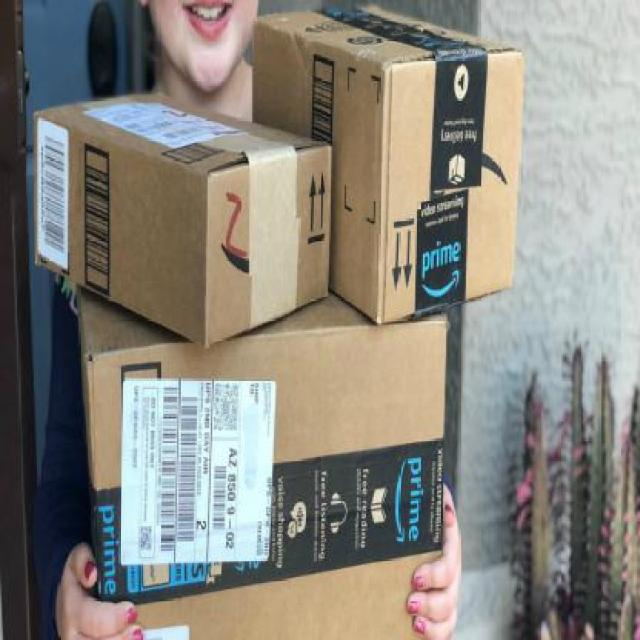cardboxes: (74, 288, 449, 640), (251, 8, 515, 327), (32, 93, 332, 350)
